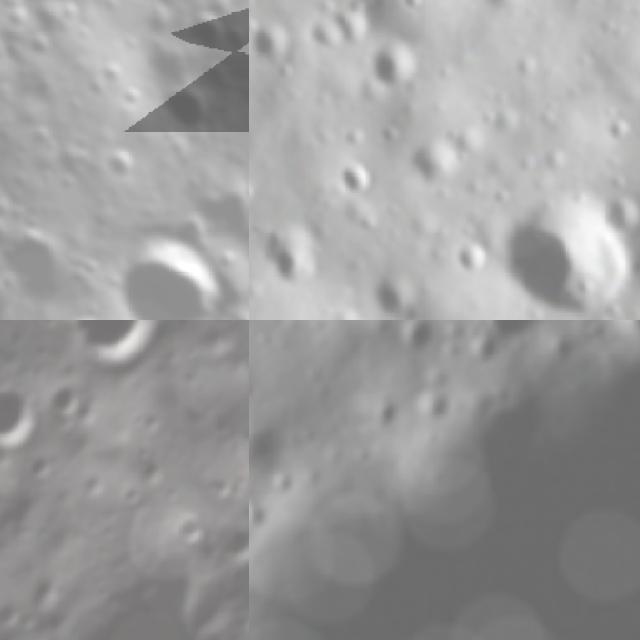crater: (27, 519, 249, 640), (498, 183, 640, 320), (86, 205, 249, 320), (0, 207, 96, 316), (52, 320, 181, 382), (152, 68, 226, 144), (0, 368, 56, 463), (408, 139, 486, 195), (171, 0, 239, 63), (268, 223, 322, 290), (368, 42, 429, 98), (40, 366, 92, 421), (482, 320, 559, 355), (167, 499, 218, 551), (0, 549, 29, 640), (98, 136, 145, 188), (408, 387, 457, 436), (337, 162, 382, 214), (22, 442, 69, 491), (210, 512, 249, 571), (225, 528, 249, 617), (390, 320, 434, 367), (249, 17, 294, 61), (27, 566, 70, 610), (132, 398, 173, 440), (113, 473, 153, 515), (597, 111, 640, 148), (112, 77, 151, 115), (52, 302, 124, 320), (0, 589, 30, 632), (456, 239, 487, 277), (0, 442, 14, 521), (234, 409, 249, 448), (402, 0, 431, 15)
